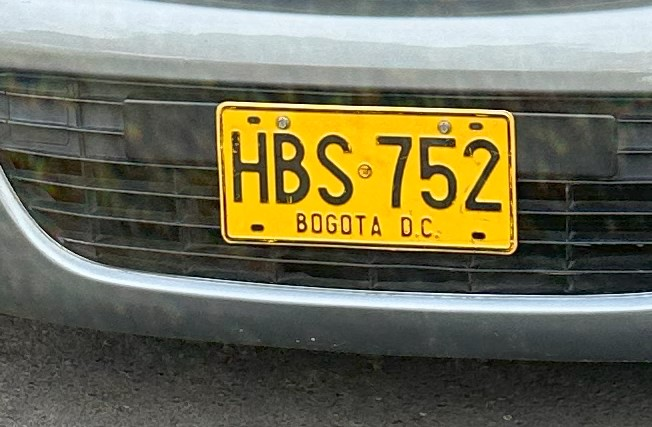number plate: (216, 102, 516, 253)
